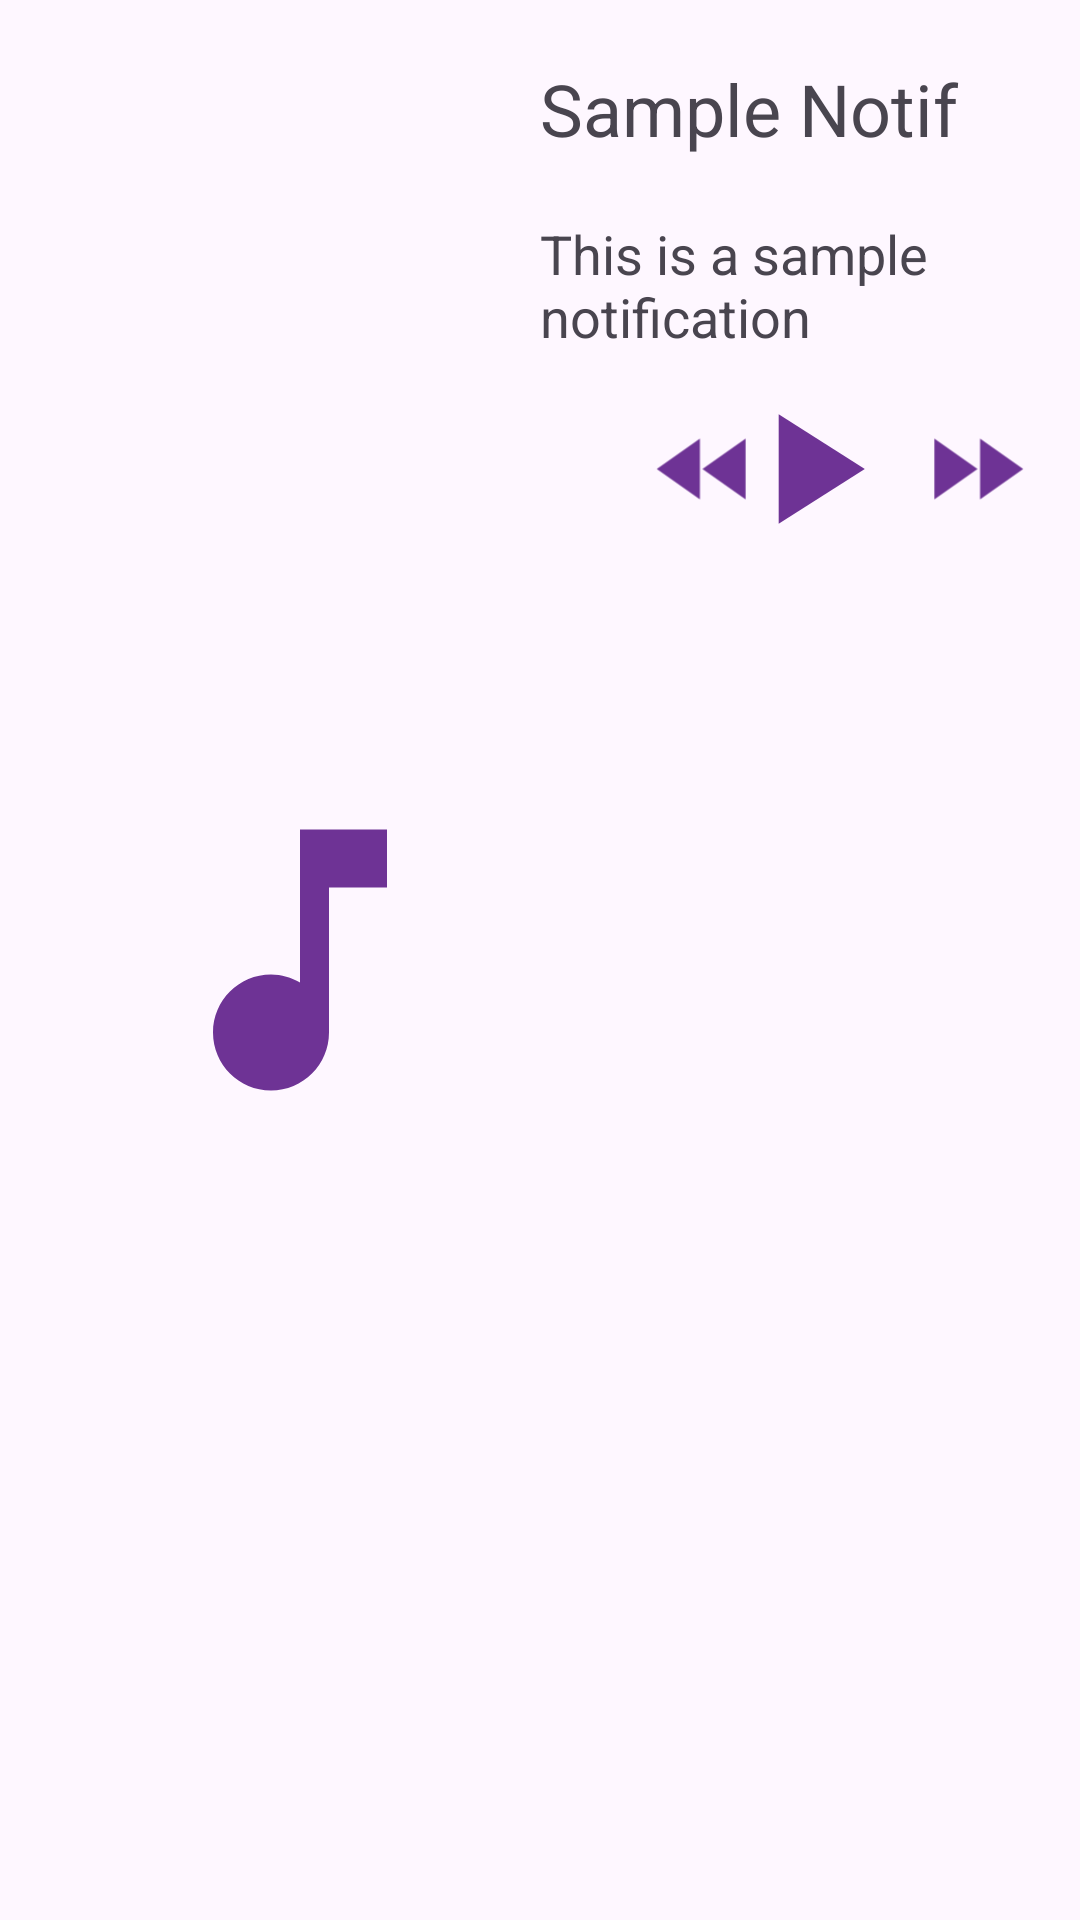

Icon click points for this 1080 × 1920 phone screenshot, format point (x, y):
forward: point (978, 469)
